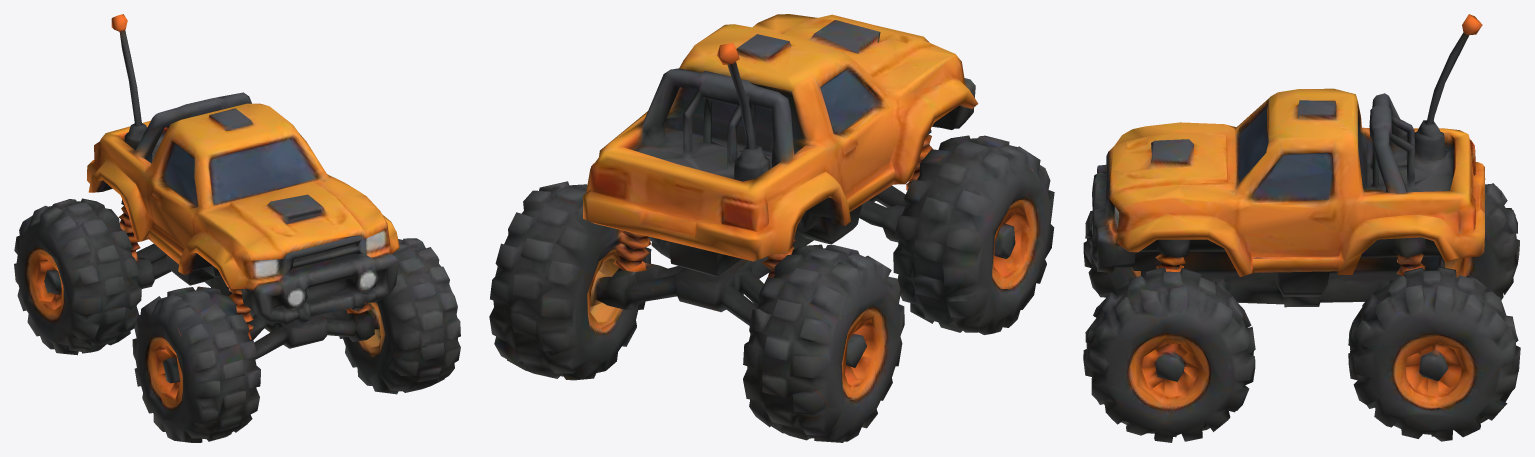
The model's file is rccar.glb.
3 views of the same model, side by side, from view 1: azimuth 30°, elevation 25°; view 2: azimuth 150°, elevation 25°; view 3: azimuth 270°, elevation 25° (orthographic). The views are drawn at different scales.
Visible parts, largest first — view 1: rccar-node; view 2: rccar-node; view 3: rccar-node.
Part boxes in pixels (x1=…): rccar-node: x1=14, y1=14, x2=460, y2=442; rccar-node: x1=489, y1=14, x2=1054, y2=442; rccar-node: x1=1083, y1=14, x2=1520, y2=442.
Size of the model in its own units: 0.918 by 1 by 1.16.
1 material, 1 textured.
